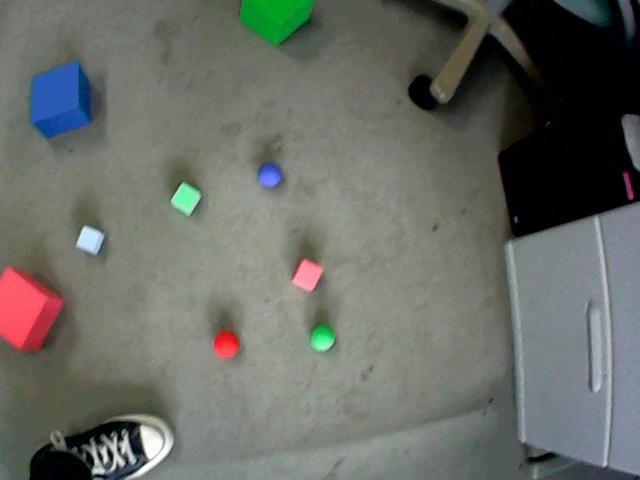blue_block: (31, 61, 90, 137), (76, 226, 104, 255)
red_block: (0, 267, 63, 350), (292, 259, 323, 291)
